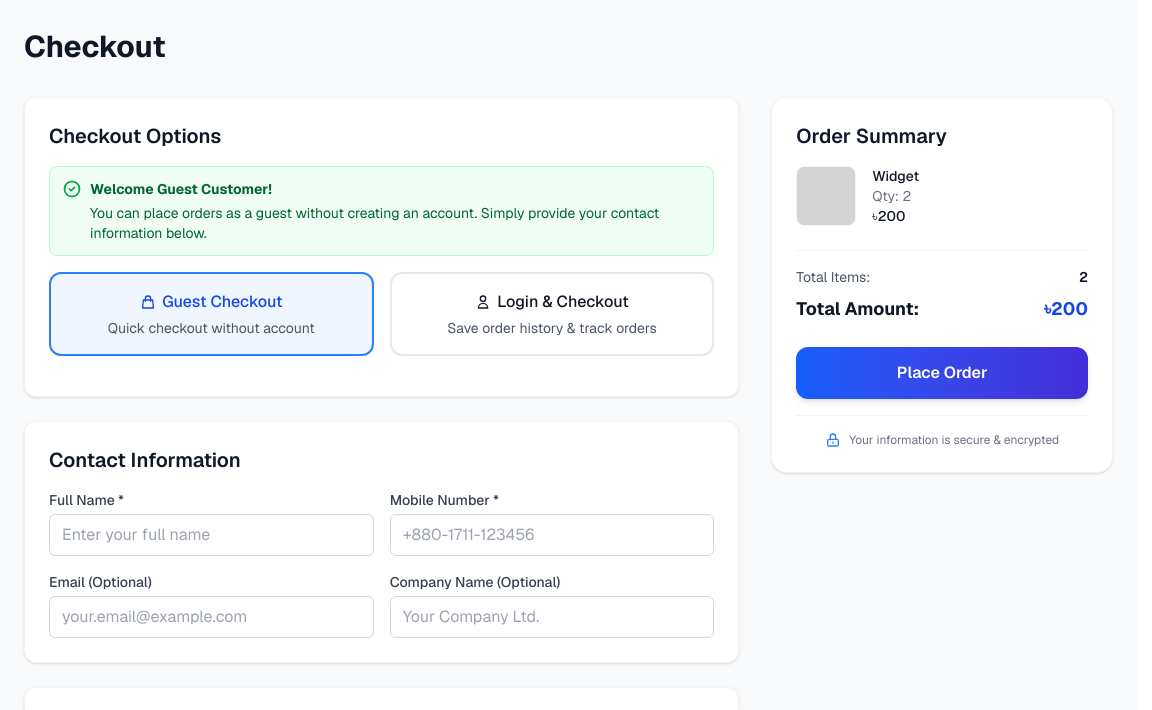
Test: Checkout address validation › clears a field error as soon as the user starts fixing it
The width and height of the screenshot is (1152, 710).
Type "Jane Doe" into the field with placeholder "Enter your full name".
click(211, 535); type("Jane Doe")  # box [49,514,374,556]
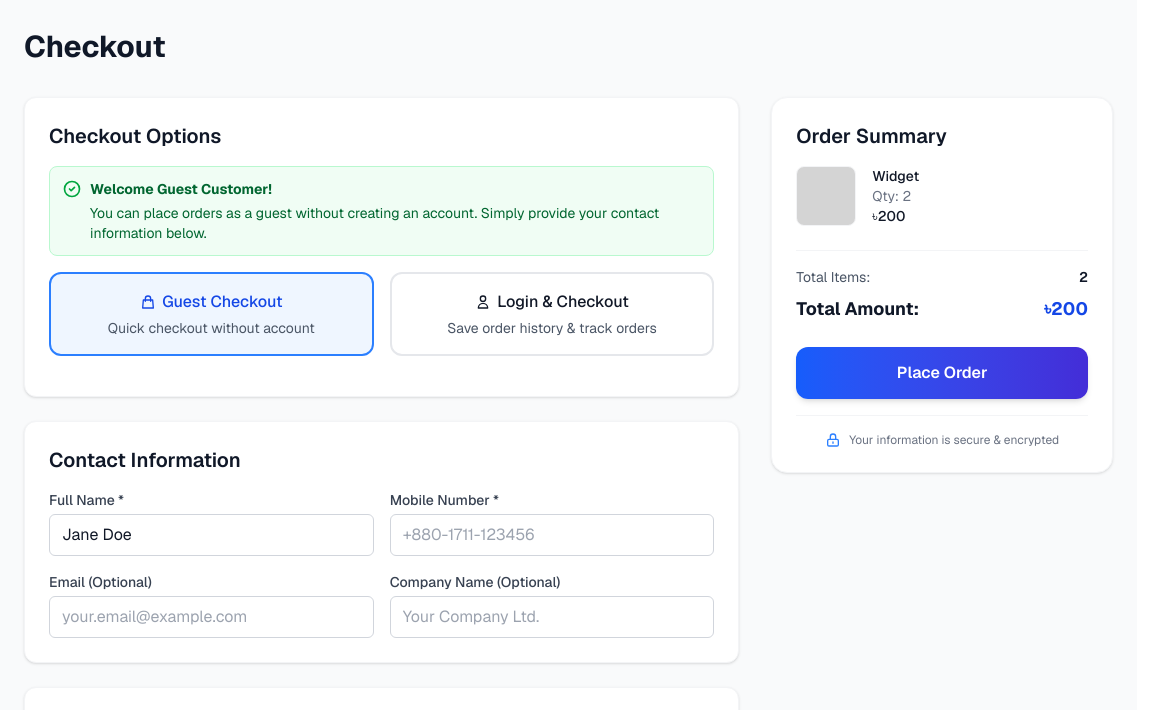
Type "01711123456" into the field with placeholder "+880-1711-123456".
click(552, 535); type("01711123456")  # box [390,514,714,556]
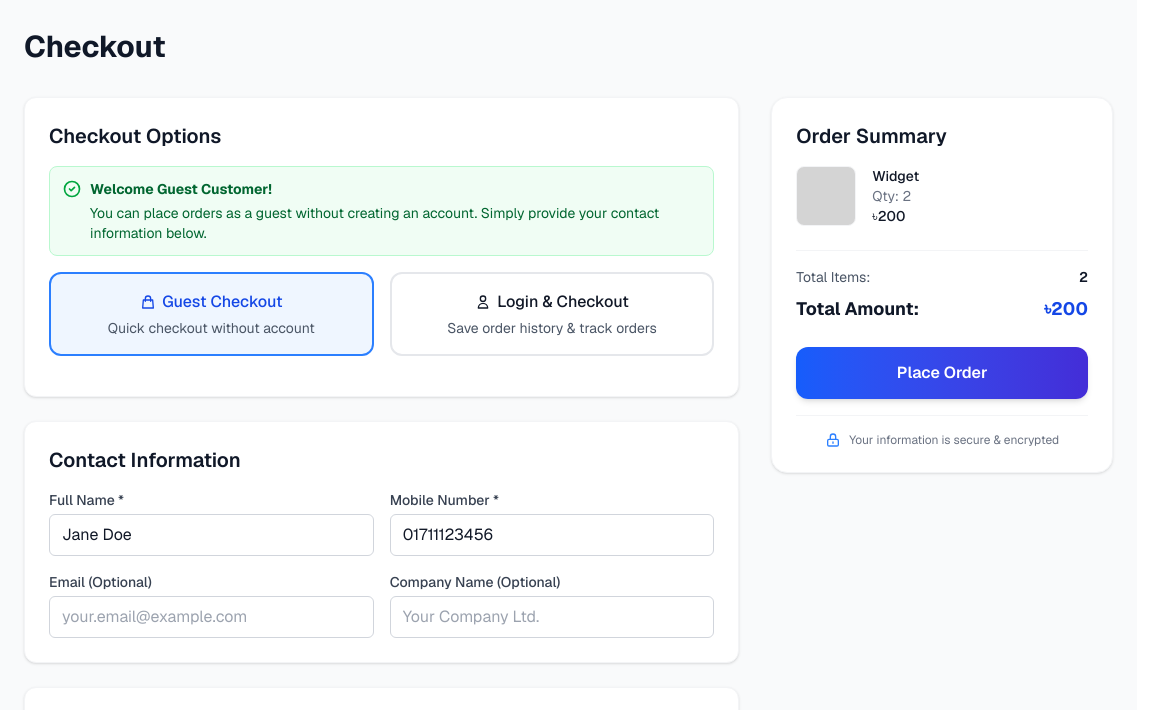
Click the button "Place Order".
click(942, 373)  # box [796,347,1088,399]
(page scrolled)
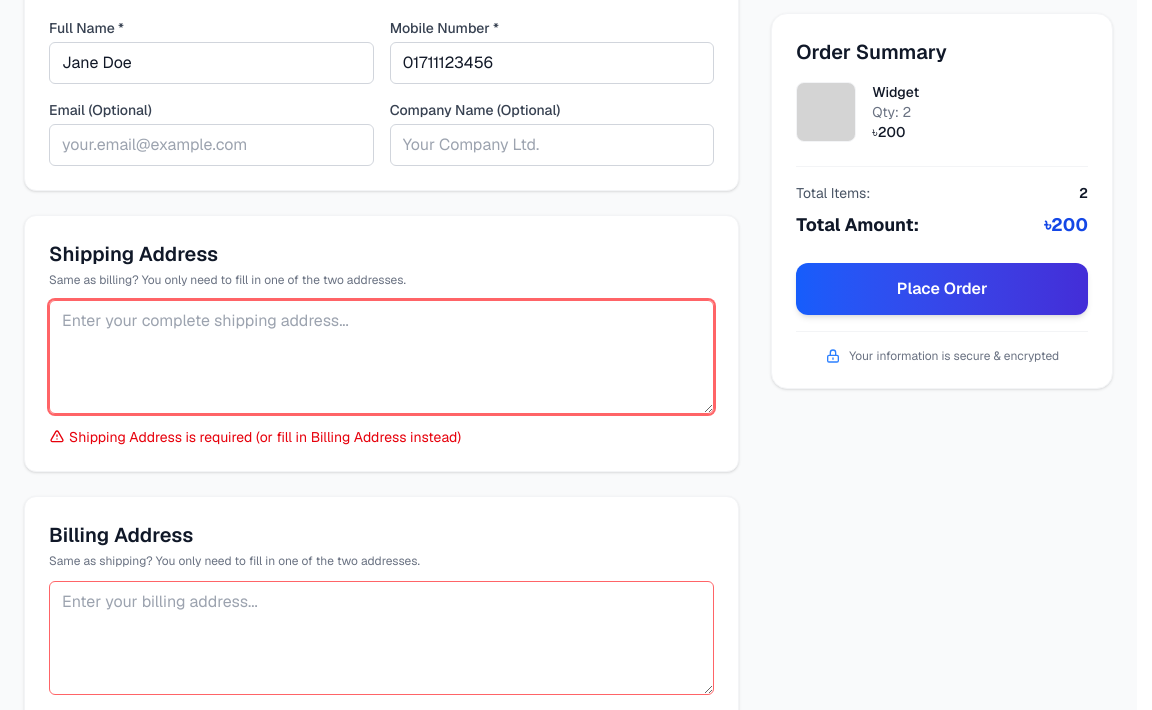
Expected: the text "Shipping Address is required" is shown, [69,428,461,446]
Type "123 Gulshan Ave, Dhaka" into the text box with placeholder "Enter your complete shipping address...".
click(382, 357); type("123 Gulshan Ave, Dhaka")  # box [49,300,714,414]
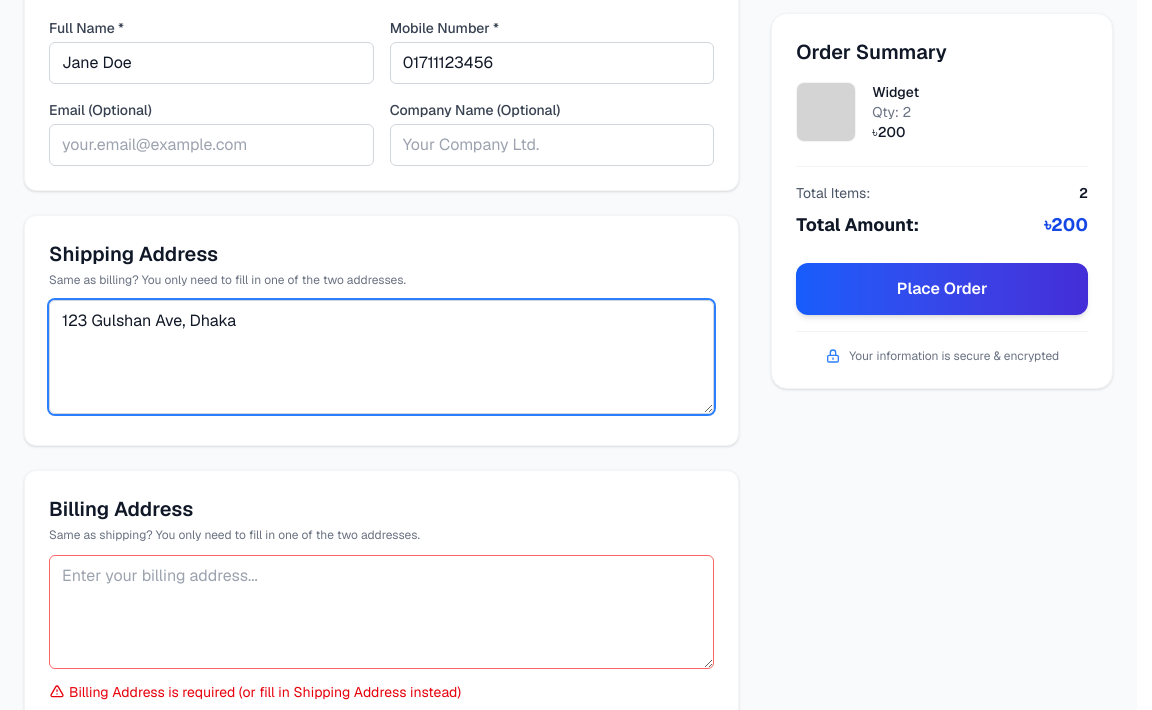
Expected: the text "Shipping Address is required" is gone
